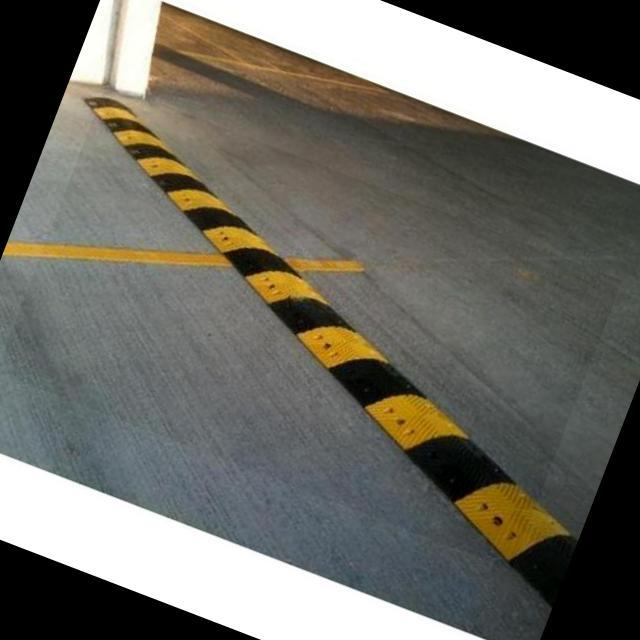speedbreaker: (0, 83, 622, 570)
